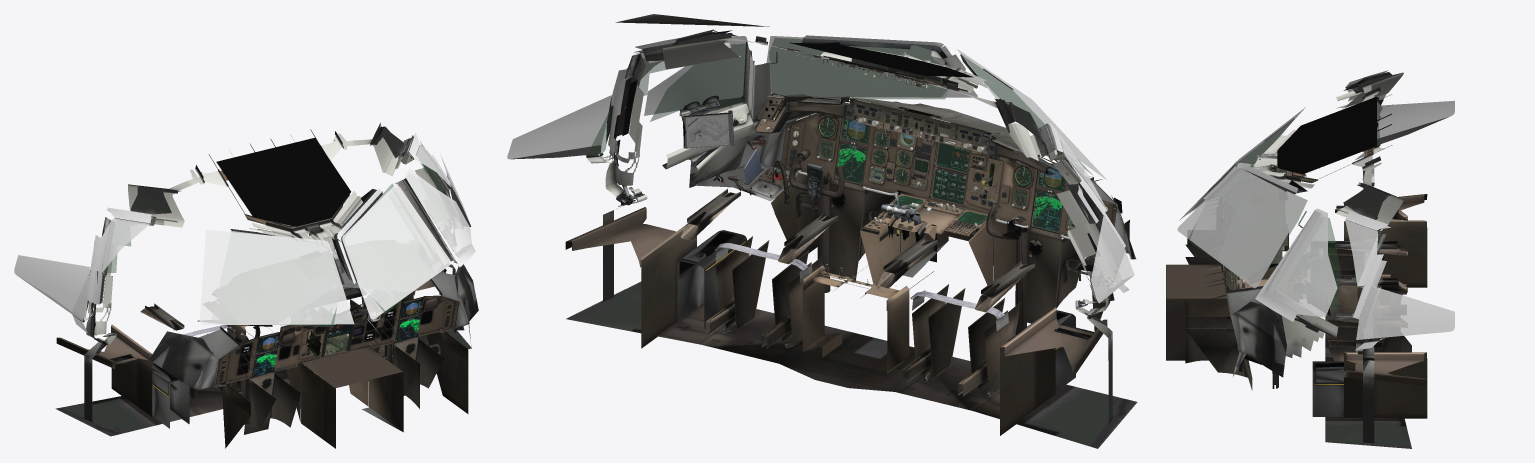
Rendered from cockpit.glb.
The picture shows the model from 3 angles, left to right: view 1: azimuth 30°, elevation 25°; view 2: azimuth 150°, elevation 25°; view 3: azimuth 270°, elevation 25°; orthographic projection. The views are drawn at different scales.
Visible parts, largest first — view 1: part_38, part_02, part_10, part_41, part_34, part_32, part_07, part_43, part_39, part_36, part_04, part_33; view 2: part_02, part_10, part_04, part_38, part_36, part_32, part_34, part_40, part_07, part_33, part_39, part_45 (+12 smaller); view 3: part_02, part_38, part_10, part_32, part_41, part_36, part_43, part_33, part_04, part_16, part_40.
Part boxes in pixels (left/top/right/bottom): part_38: left=14, top=143, right=471, bottom=325; part_02: left=55, top=122, right=478, bottom=448; part_10: left=152, top=287, right=441, bottom=448; part_41: left=216, top=138, right=350, bottom=226; part_34: left=214, top=295, right=459, bottom=384; part_32: left=195, top=129, right=444, bottom=434; part_07: left=254, top=298, right=423, bottom=376; part_43: left=87, top=133, right=475, bottom=302; part_39: left=97, top=136, right=457, bottom=283; part_36: left=140, top=296, right=441, bottom=399; part_04: left=83, top=149, right=444, bottom=374; part_33: left=292, top=219, right=470, bottom=314; part_02: left=565, top=29, right=1137, bottom=448; part_10: left=677, top=101, right=1075, bottom=391; part_04: left=587, top=38, right=1099, bottom=234; part_38: left=507, top=36, right=1134, bottom=303; part_36: left=681, top=189, right=1091, bottom=396; part_32: left=722, top=41, right=1084, bottom=396; part_34: left=781, top=105, right=1117, bottom=236; part_40: left=757, top=93, right=1069, bottom=164; part_07: left=821, top=118, right=1074, bottom=231; part_33: left=615, top=14, right=965, bottom=206; part_39: left=624, top=38, right=1102, bottom=223; part_45: left=789, top=149, right=844, bottom=292; part_02: left=1187, top=72, right=1427, bottom=448; part_38: left=1177, top=100, right=1454, bottom=339; part_10: left=1166, top=241, right=1390, bottom=416; part_32: left=1185, top=91, right=1407, bottom=390; part_41: left=1277, top=96, right=1376, bottom=174; part_36: left=1239, top=205, right=1407, bottom=371; part_43: left=1255, top=70, right=1388, bottom=321; part_33: left=1235, top=154, right=1368, bottom=371; part_04: left=1187, top=120, right=1380, bottom=310; part_16: left=1268, top=117, right=1448, bottom=339; part_40: left=1261, top=164, right=1288, bottom=279.
Size of what is drawn, in the model's own units: 3.6 by 2.35 by 2.5.
45 materials, 42 textured.
